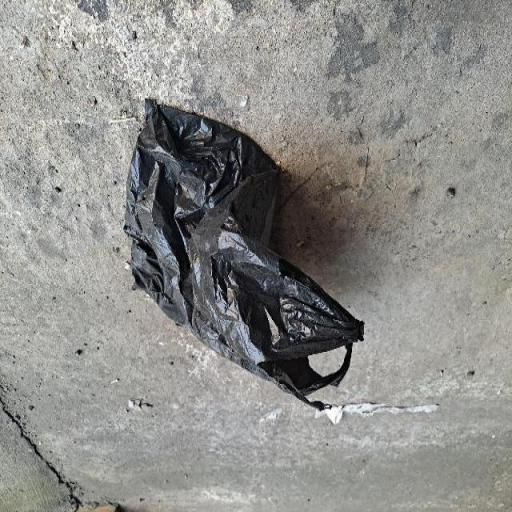plastic-bag: (108, 94, 366, 412)
